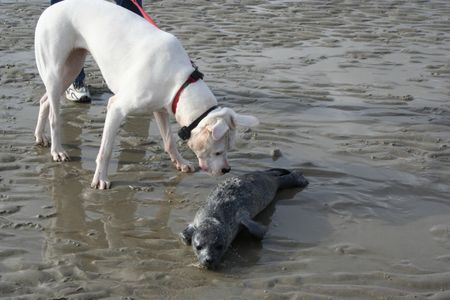dogo_argentino: (34, 0, 258, 188)
other_dog_breed: (179, 167, 308, 270)
